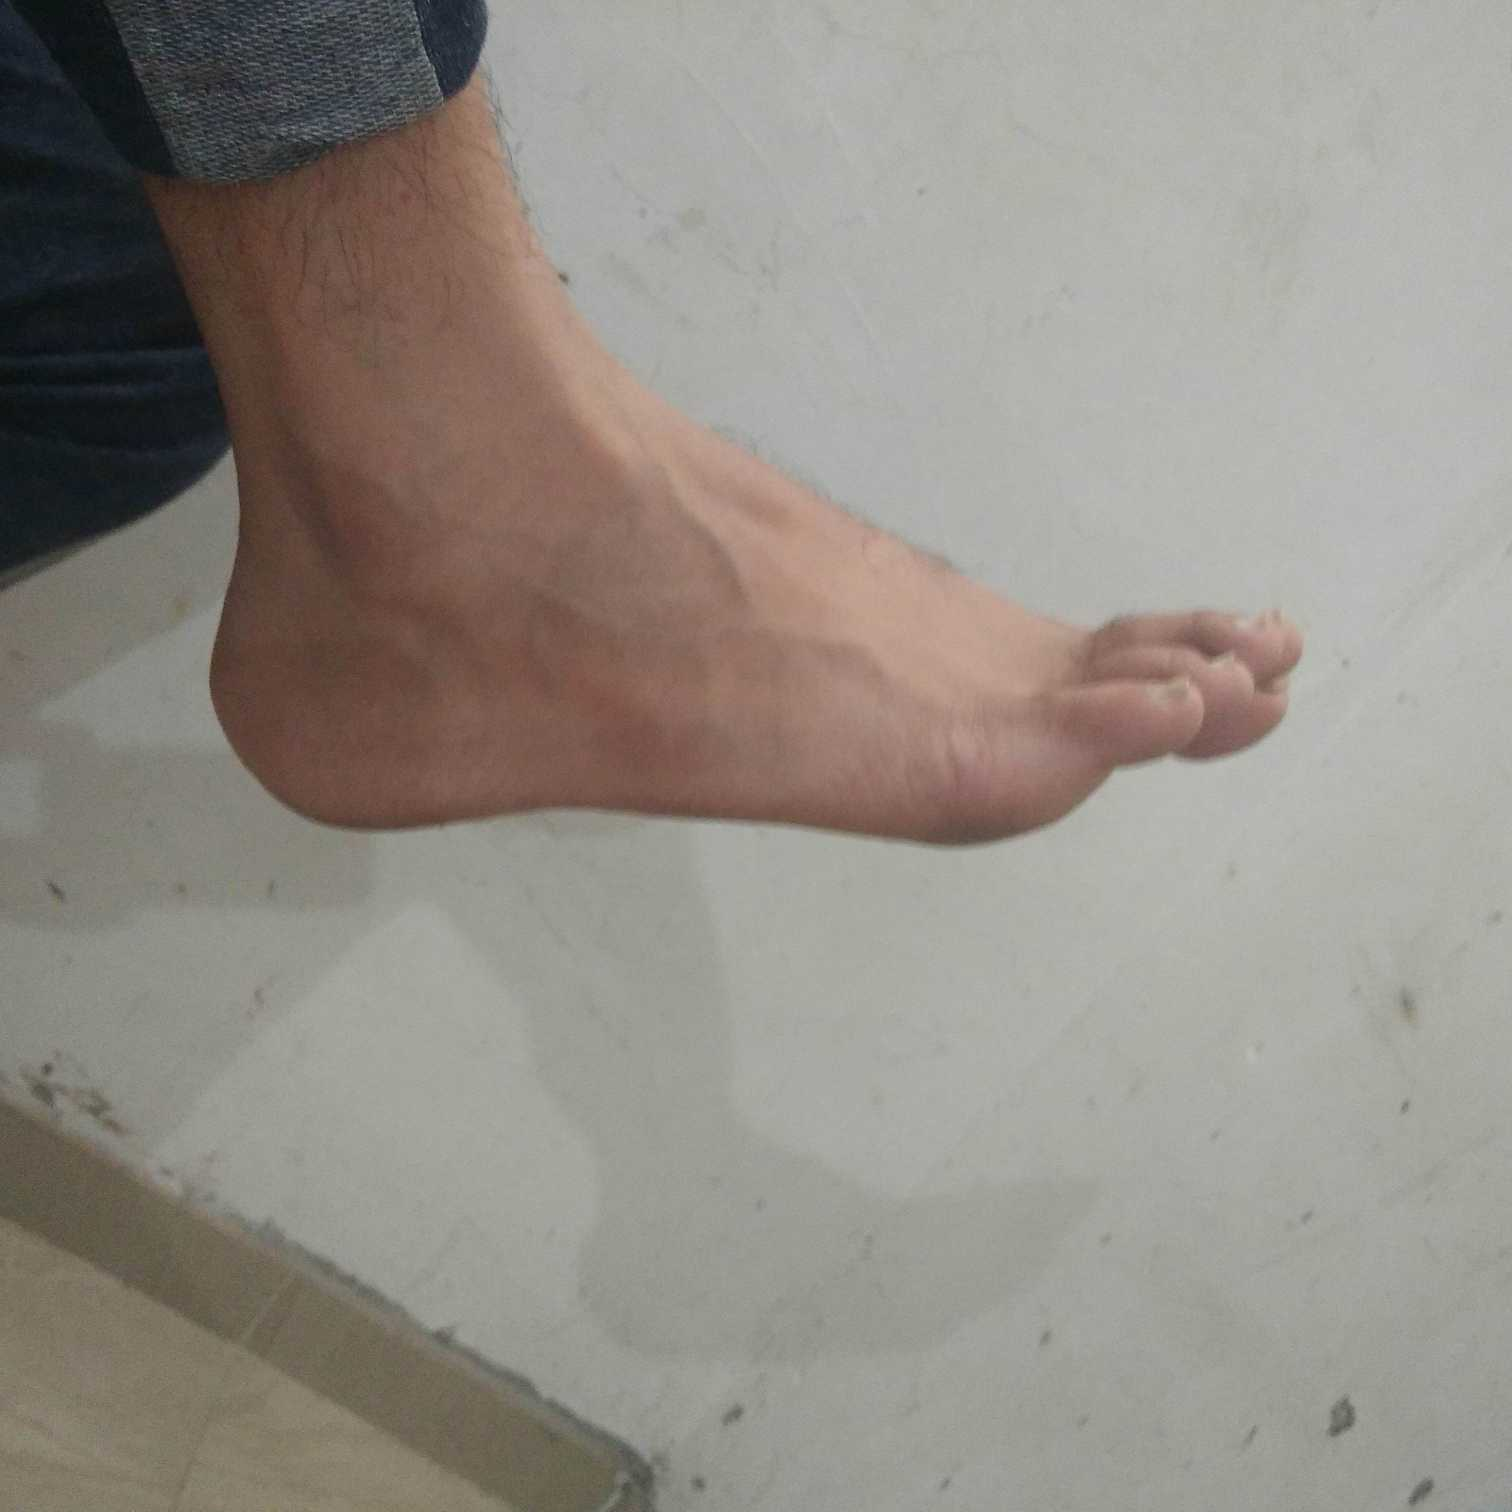foot: (199, 415, 1338, 840)
